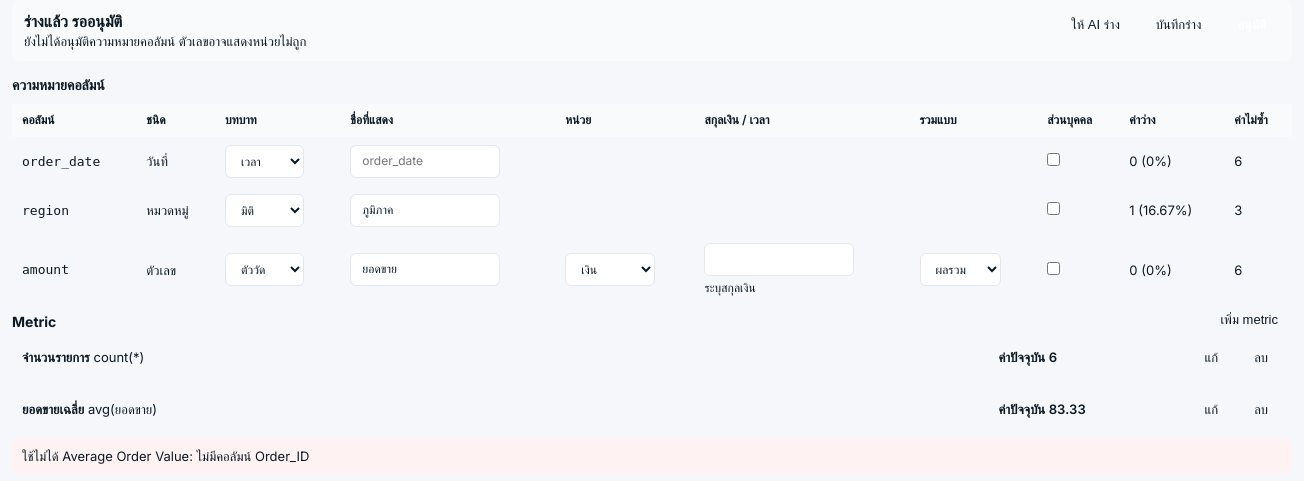
saves edits as a draft
The width and height of the screenshot is (1304, 481).
Expected: the button "บันทึกร่าง" is disabled, [1142,10,1215,40]
In the field named "สกุลเงิน amount": (780, 259) [704,243,854,276], type "usd"
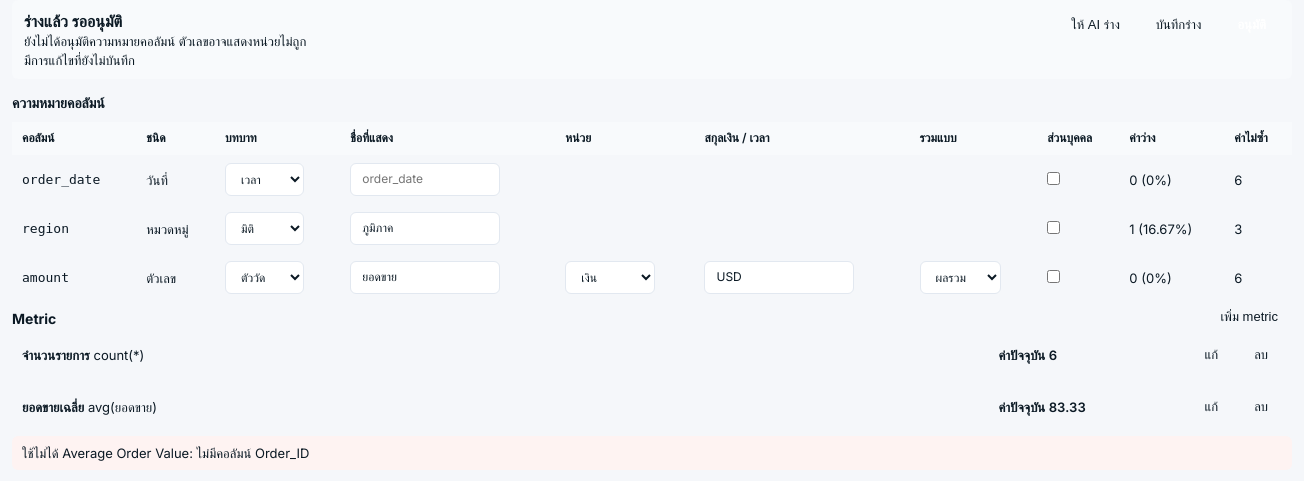
Expected: the text "มีการแก้ไขที่ยังไม่บันทึก" is shown, [24,52,135,68]
Click the button "บันทึกร่าง": (1179, 25) [1142,10,1215,40]
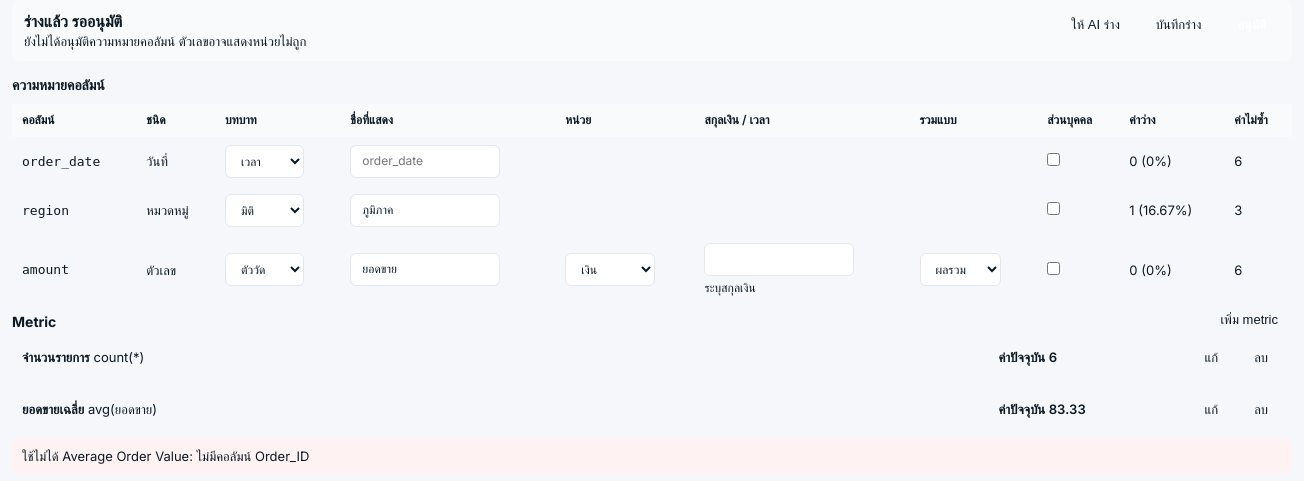
Expected: the text "มีการแก้ไขที่ยังไม่บันทึก" is gone
